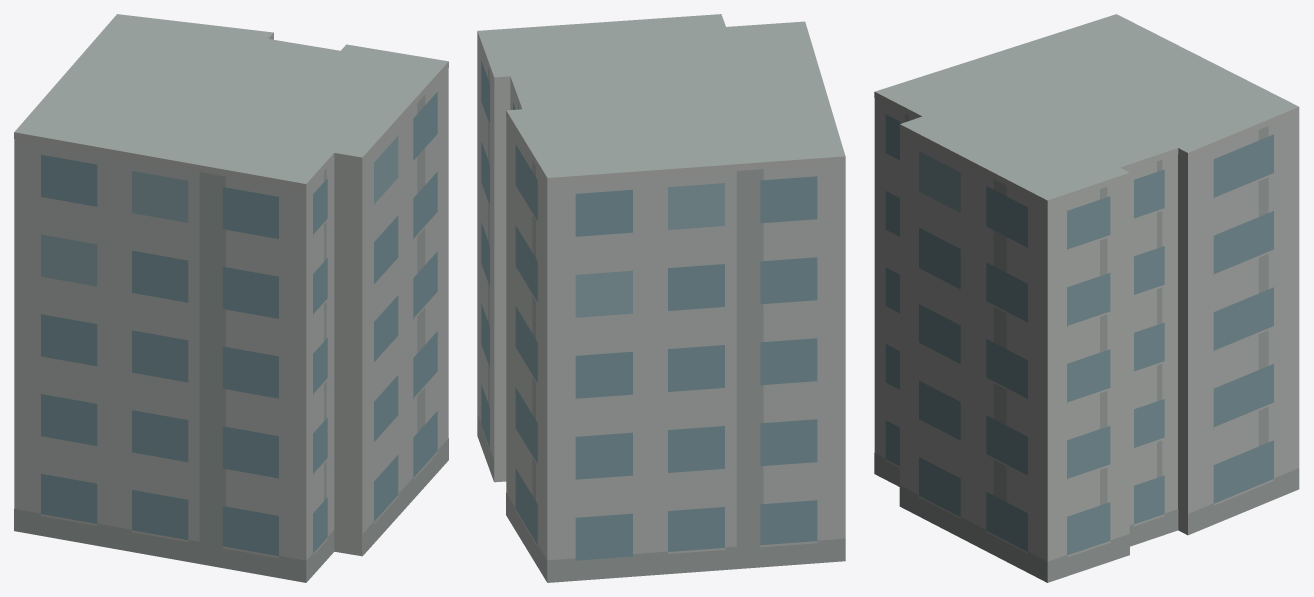
The model's file is survey-upis-32563178.glb.
3 views of the same model, side by side, from view 1: azimuth 30°, elevation 25°; view 2: azimuth 150°, elevation 25°; view 3: azimuth 270°, elevation 25° (orthographic). The views are drawn at different scales.
Parts seen in each view (by area): view 1: survey-upis-32563178.tmp; view 2: survey-upis-32563178.tmp; view 3: survey-upis-32563178.tmp.
Boxes of the visible parts, x1=… form: survey-upis-32563178.tmp: x1=14, y1=14, x2=448, y2=582; survey-upis-32563178.tmp: x1=477, y1=14, x2=845, y2=582; survey-upis-32563178.tmp: x1=874, y1=14, x2=1299, y2=582.
Bounding box in the file's own units: 15.18 × 14.5 × 14.61.
